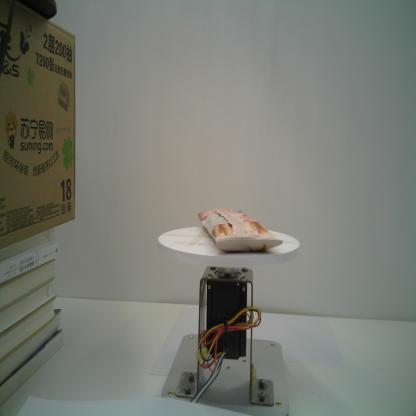Dessert: (197, 208, 284, 254)
